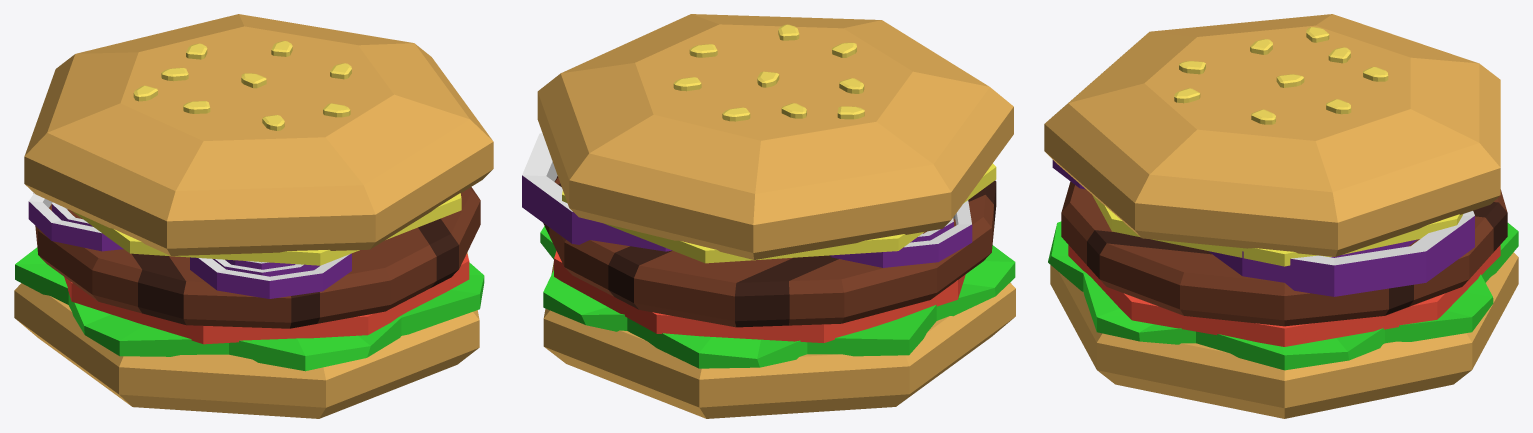
File: tower_burger.glb
3 renders of one model, left to right at view 1: azimuth 30°, elevation 25°; view 2: azimuth 150°, elevation 25°; view 3: azimuth 270°, elevation 25°, orthographic. The views are drawn at different scales.
Visible parts, largest first — view 1: Cube.008, Cylinder, Cylinder.003, Cylinder.001, Cylinder.004, Cylinder.002, Cylinder.005; view 2: Cube.008, Cylinder.003, Cylinder, Cylinder.001, Cylinder.004, Cylinder.002, Cylinder.005; view 3: Cube.008, Cylinder, Cylinder.003, Cylinder.001, Cylinder.004, Cylinder.002, Cylinder.005.
Boxes of the visible parts, x1,y1,x2,y2 form: Cube.008: [24, 14, 493, 255]; Cylinder: [14, 252, 479, 418]; Cylinder.003: [33, 187, 480, 328]; Cylinder.001: [15, 247, 484, 371]; Cylinder.004: [28, 193, 351, 298]; Cylinder.002: [64, 253, 469, 344]; Cylinder.005: [72, 193, 461, 265]; Cube.008: [537, 14, 1013, 259]; Cylinder.003: [543, 176, 996, 327]; Cylinder: [543, 261, 1015, 418]; Cylinder.001: [540, 226, 1015, 368]; Cylinder.004: [522, 133, 972, 267]; Cylinder.002: [554, 251, 965, 342]; Cylinder.005: [562, 163, 996, 263]; Cube.008: [1044, 14, 1500, 256]; Cylinder: [1050, 252, 1518, 418]; Cylinder.003: [1061, 181, 1507, 326]; Cylinder.001: [1048, 221, 1518, 370]; Cylinder.004: [1052, 160, 1474, 296]; Cylinder.002: [1068, 245, 1500, 346]; Cylinder.005: [1092, 195, 1463, 266].
Bounding box in the file's own units: 1.98 × 1.24 × 1.97.
